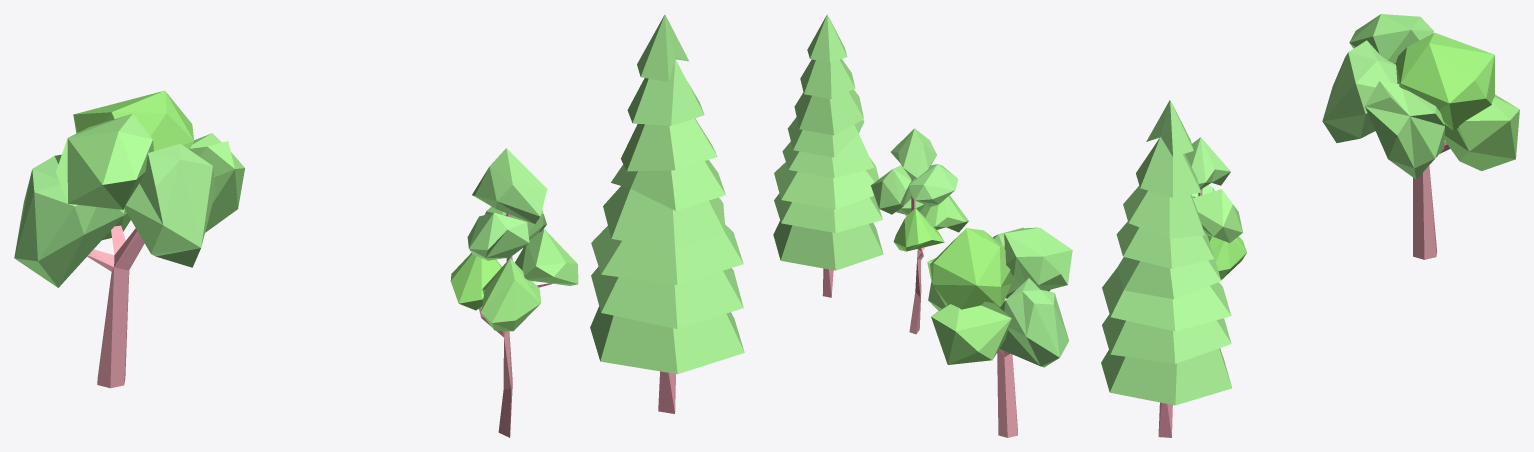
The model's file is ForestSideRails4.fbx.
3 views of the same model, side by side, from view 1: azimuth 30°, elevation 25°; view 2: azimuth 150°, elevation 25°; view 3: azimuth 270°, elevation 25° (orthographic). The views are drawn at different scales.
Parts seen in each view (by area): view 1: Forest.019; view 2: Forest.019; view 3: Forest.019.
Part boxes in pixels (x1=…): Forest.019: x1=14, y1=14, x2=744, y2=437; Forest.019: x1=773, y1=14, x2=1072, y2=437; Forest.019: x1=1101, y1=14, x2=1519, y2=437.
Bounding box in the file's own units: 529 × 359 × 403.
